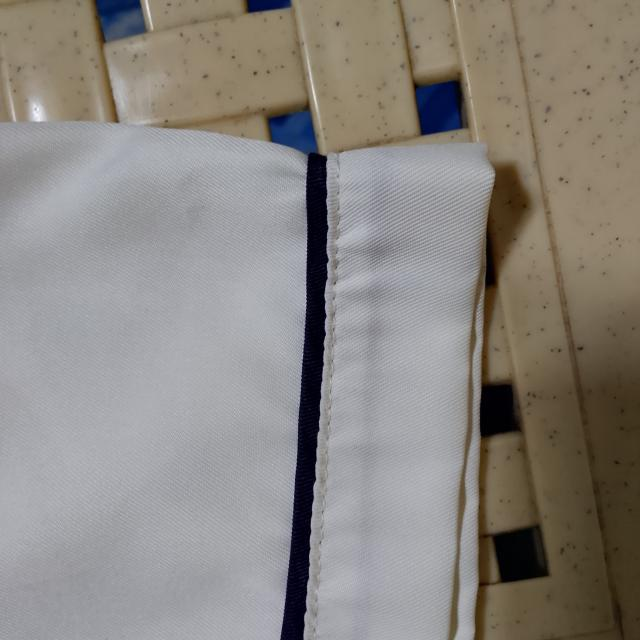education_male_uniform: (0, 75, 580, 639)
